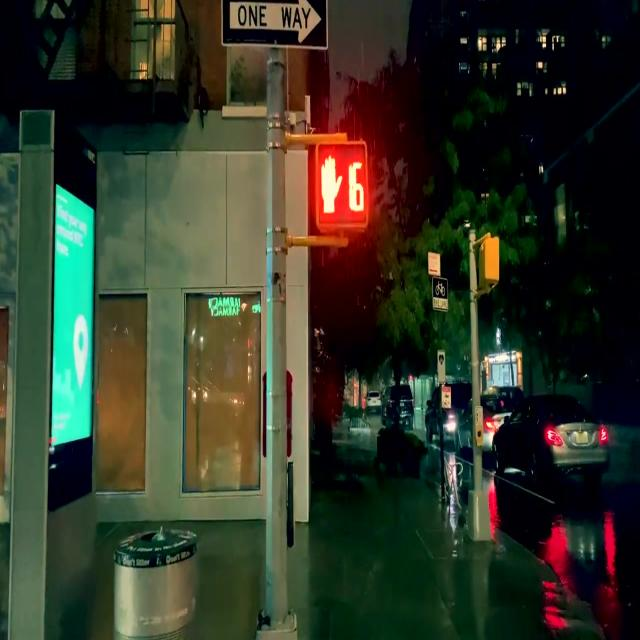Car: (493, 395, 606, 485)
